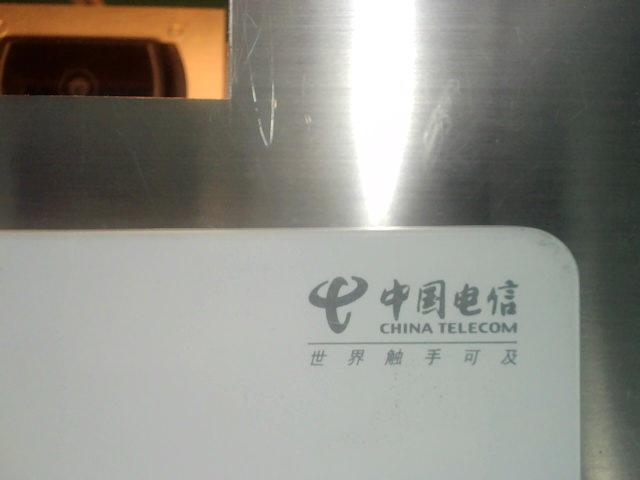AB_ChinaTelecom: (297, 264, 532, 370)
